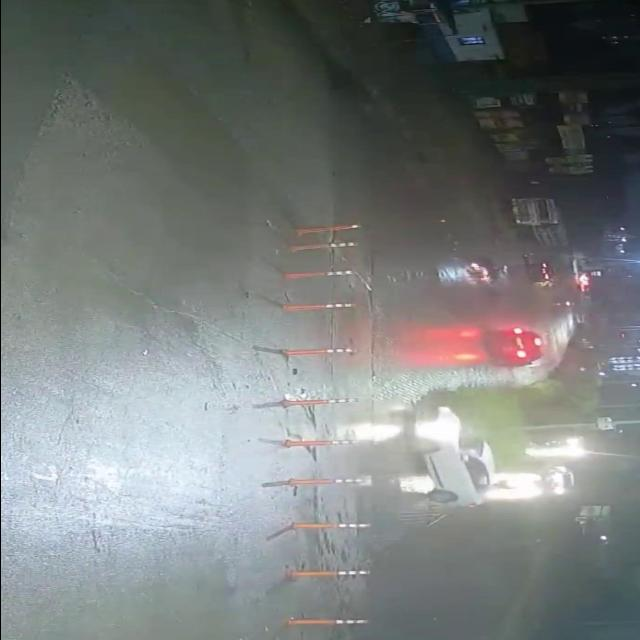accident: (457, 249, 518, 298)
